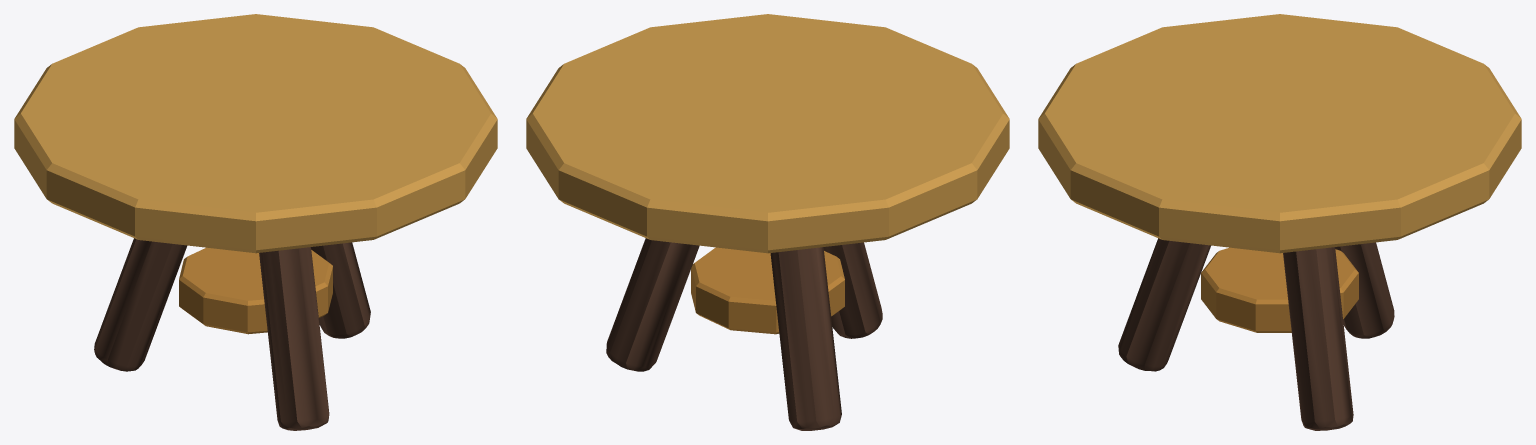
Rendered from prop_table.glb.
3 renders of one model, left to right at view 1: azimuth 30°, elevation 25°; view 2: azimuth 150°, elevation 25°; view 3: azimuth 270°, elevation 25°, orthographic.
Visible parts, largest first — view 1: table_top, table_leg_2, table_brace, table_leg_1, table_leg_0; view 2: table_top, table_leg_1, table_brace, table_leg_0, table_leg_2; view 3: table_top, table_leg_0, table_brace, table_leg_2, table_leg_1.
Part boxes in pixels (x1,y1,x2,y2): table_top: (14, 14, 497, 253); table_leg_2: (259, 247, 329, 430); table_brace: (179, 247, 332, 334); table_leg_1: (94, 238, 187, 371); table_leg_0: (311, 242, 370, 338); table_top: (526, 14, 1009, 253); table_leg_1: (770, 247, 841, 430); table_brace: (691, 247, 844, 334); table_leg_0: (606, 238, 699, 371); table_leg_2: (823, 242, 882, 338); table_top: (1038, 14, 1521, 253); table_leg_0: (1283, 247, 1353, 430); table_brace: (1201, 247, 1358, 332); table_leg_2: (1118, 238, 1210, 371); table_leg_1: (1335, 242, 1394, 338).
Size of the model in its own units: 0.92 by 0.5526 by 0.92.
